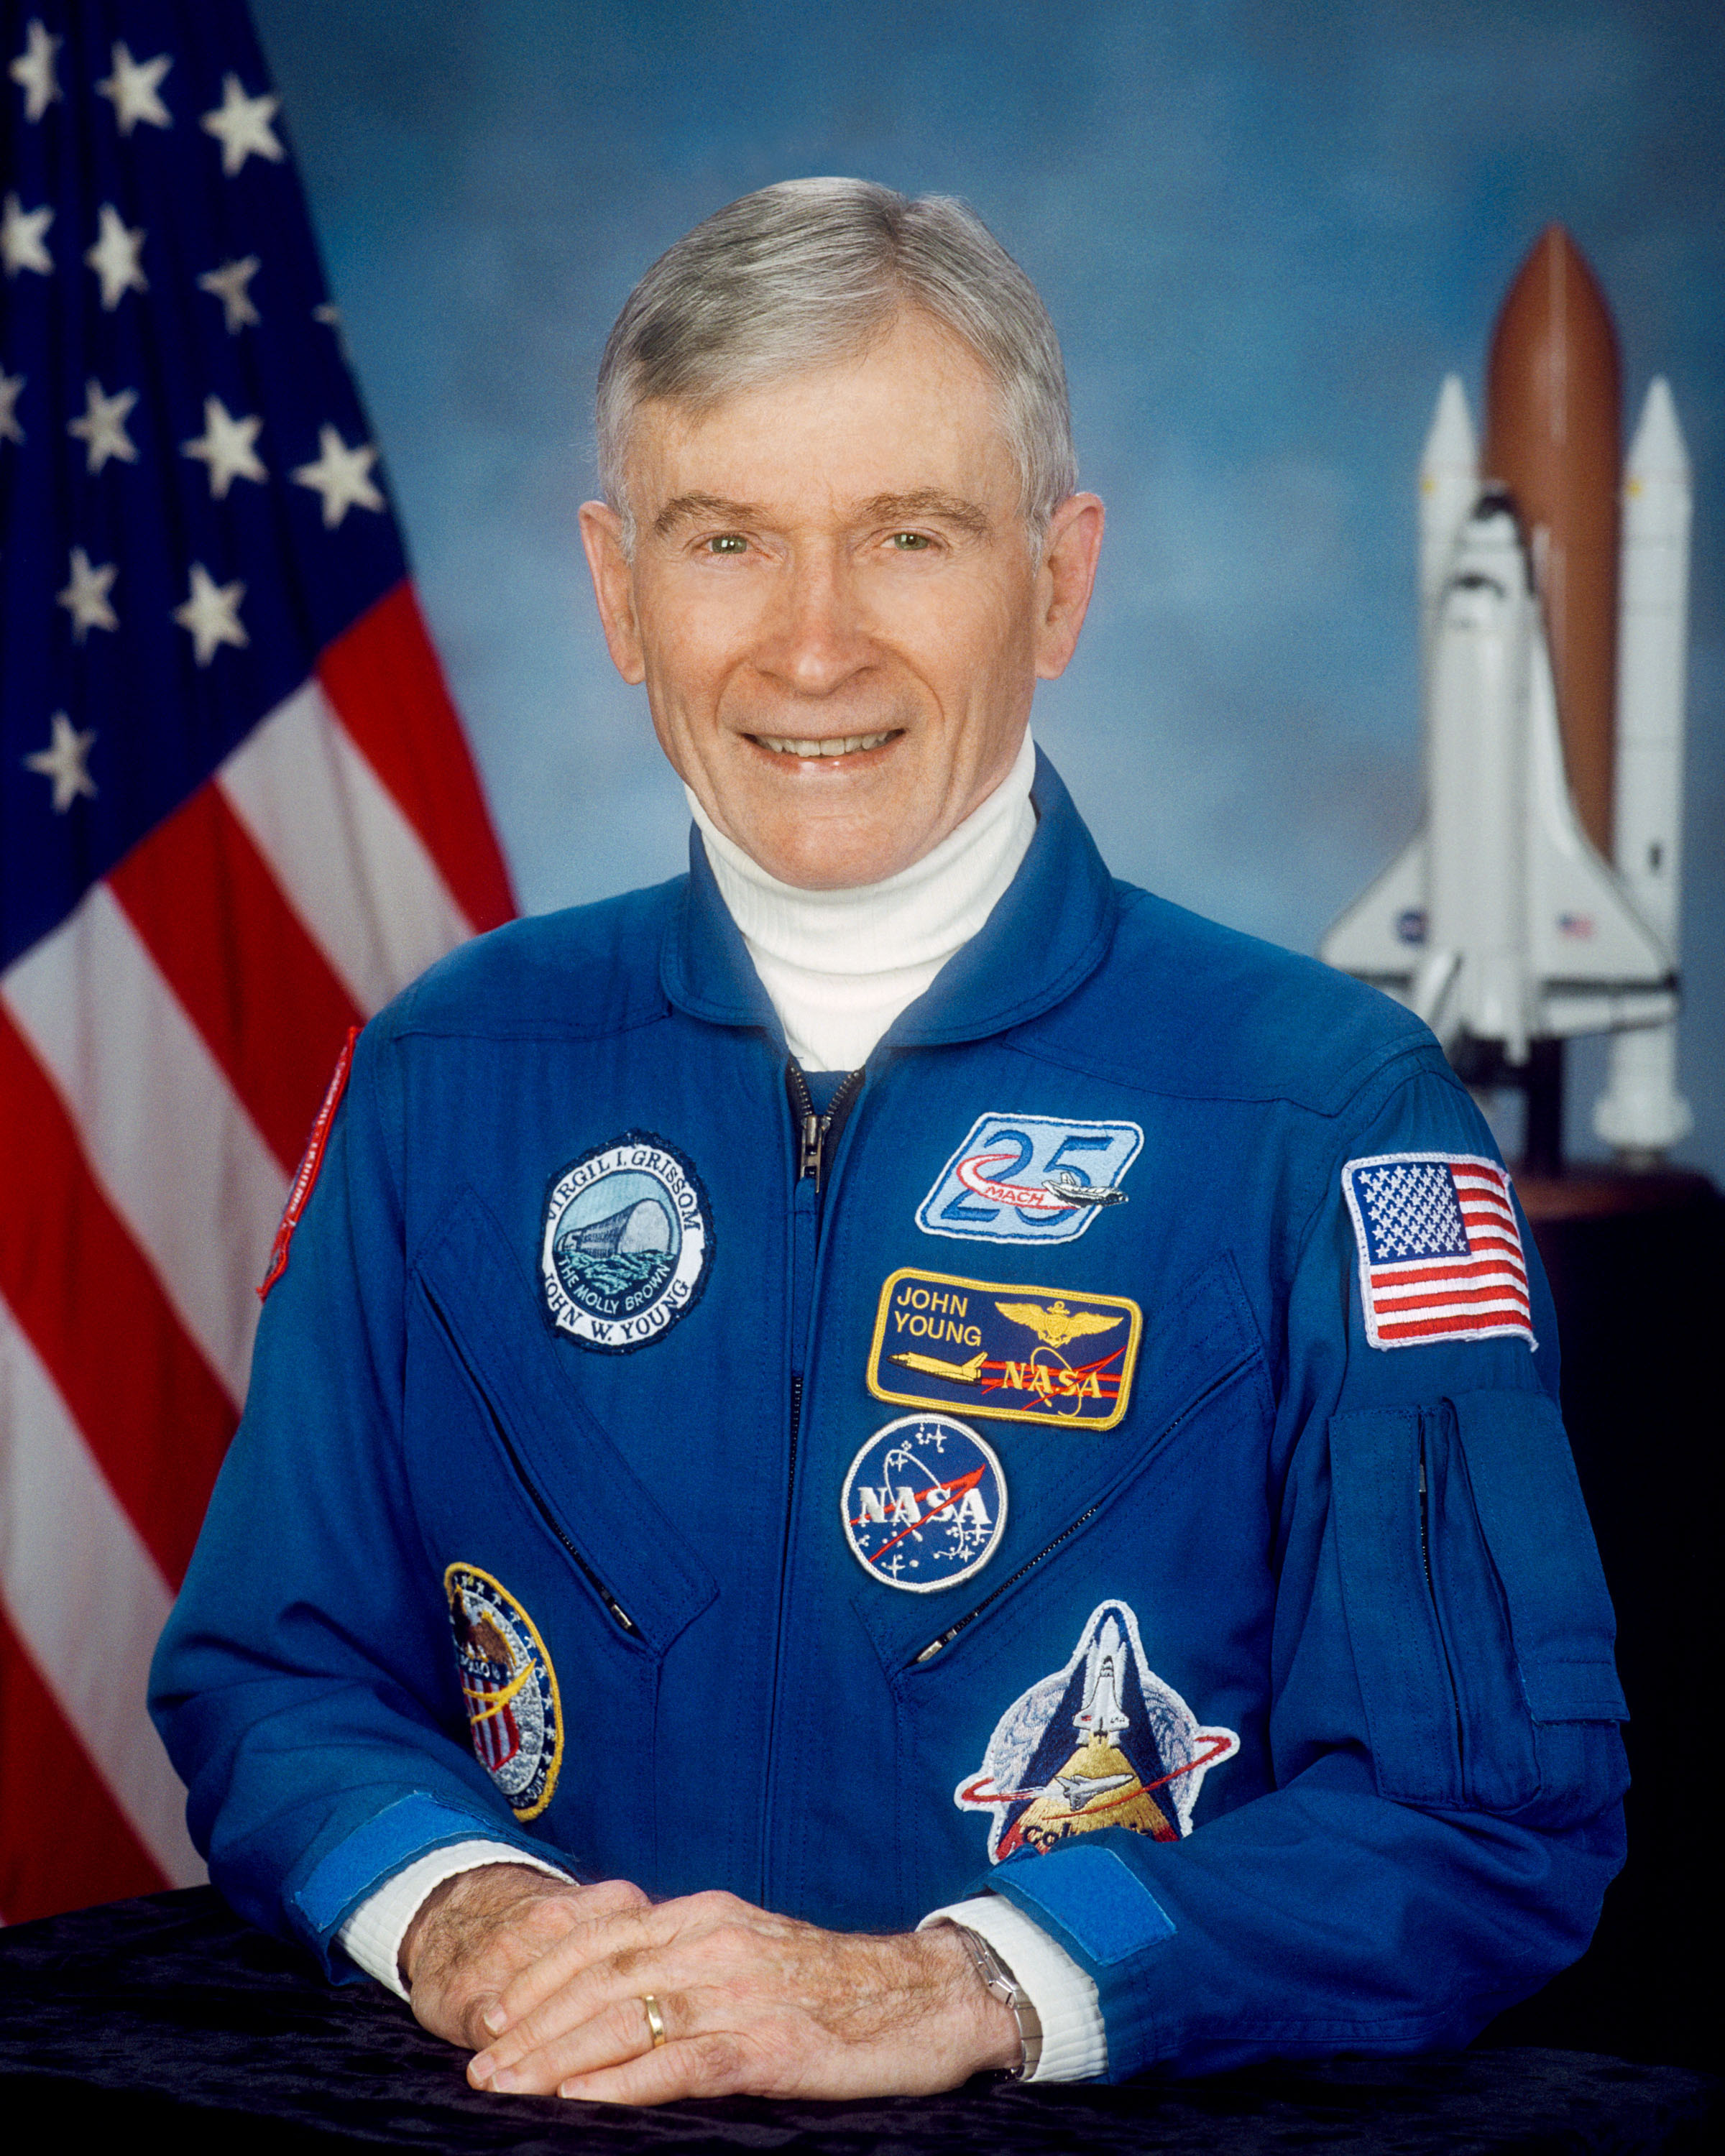NASA: (841, 1419, 1009, 1595)
